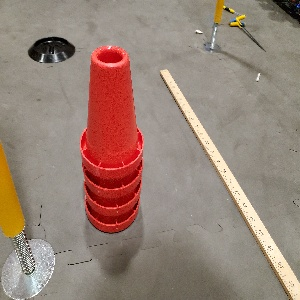Red_4: (75, 33, 149, 240)
